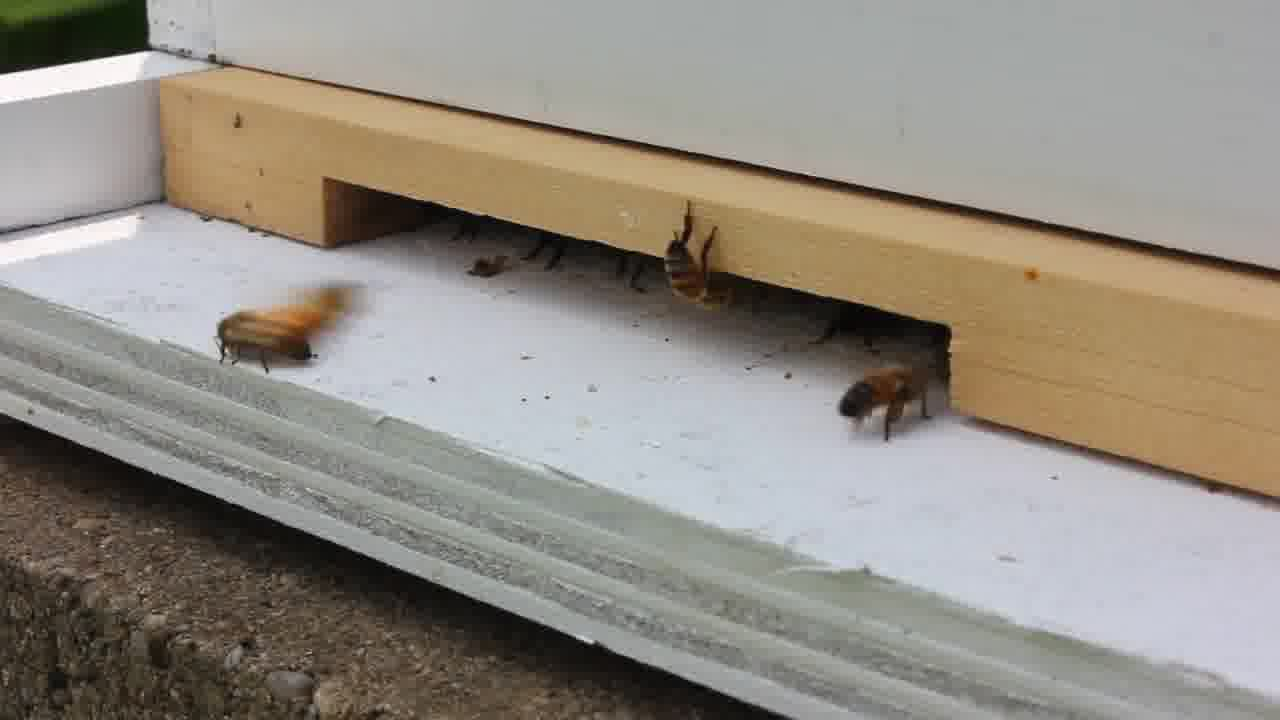pollen: (833, 366, 935, 444)
